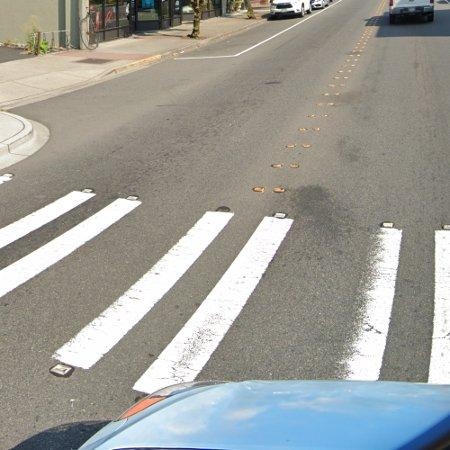crosswalks: (0, 173, 450, 395)
